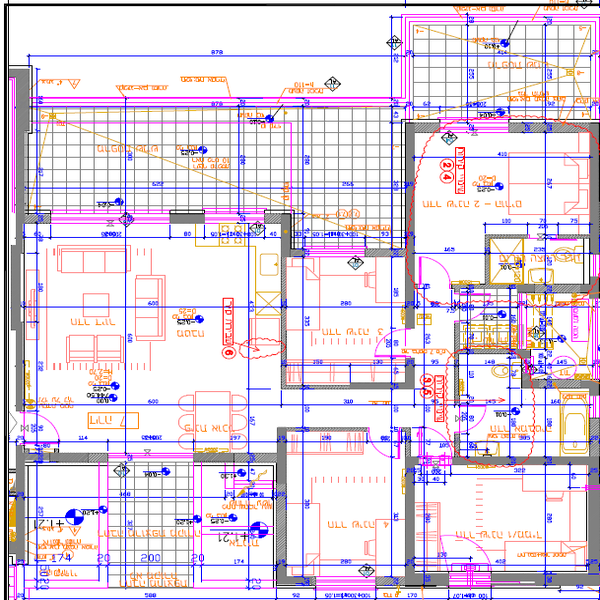door: (418, 422, 458, 467), (20, 413, 62, 449), (364, 420, 401, 460), (417, 255, 455, 292), (454, 288, 493, 324), (373, 330, 411, 363), (457, 401, 489, 434)
room: (17, 208, 288, 466), (410, 456, 598, 584), (272, 428, 418, 586), (416, 118, 600, 240), (281, 243, 417, 388), (451, 346, 597, 464), (518, 284, 600, 388), (452, 284, 527, 354)
wall: (15, 70, 25, 415), (404, 119, 415, 329), (453, 454, 596, 470), (277, 212, 289, 395), (275, 433, 289, 586), (405, 430, 417, 584), (404, 454, 418, 582), (17, 448, 31, 561), (587, 453, 600, 570), (18, 452, 110, 468), (196, 452, 280, 469), (588, 130, 600, 248), (282, 383, 420, 392), (503, 571, 598, 582), (514, 121, 600, 132), (527, 380, 600, 392), (520, 285, 588, 294), (403, 359, 421, 392), (169, 208, 203, 225)
